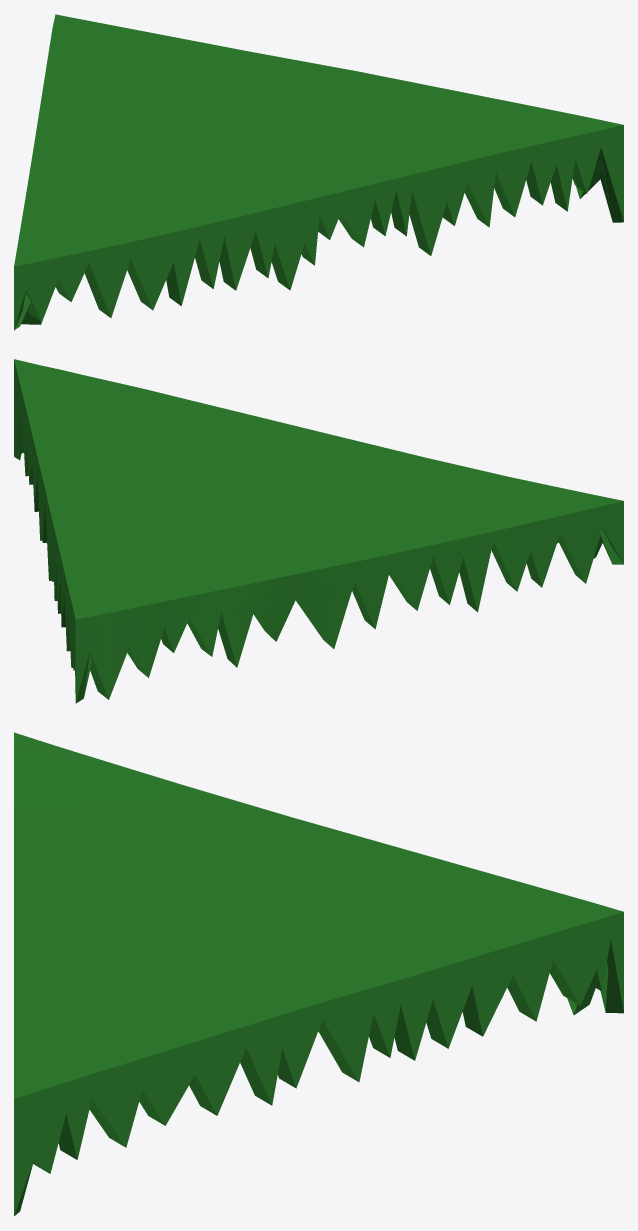
Rendered from grass_layer_triangle_small.fbx.
3 views of the same model, one above another, from view 1: azimuth 30°, elevation 25°; view 2: azimuth 150°, elevation 25°; view 3: azimuth 270°, elevation 25° (orthographic). The views are drawn at different scales.
Parts seen in each view (by area): view 1: grass_layer_triangle_small; view 2: grass_layer_triangle_small; view 3: grass_layer_triangle_small.
Boxes of the visible parts, x1,y1,x2,y2 form: grass_layer_triangle_small: [14, 14, 623, 330]; grass_layer_triangle_small: [14, 359, 623, 703]; grass_layer_triangle_small: [14, 732, 623, 1215].
Bounding box in the file's own units: 453 × 74.28 × 326.
